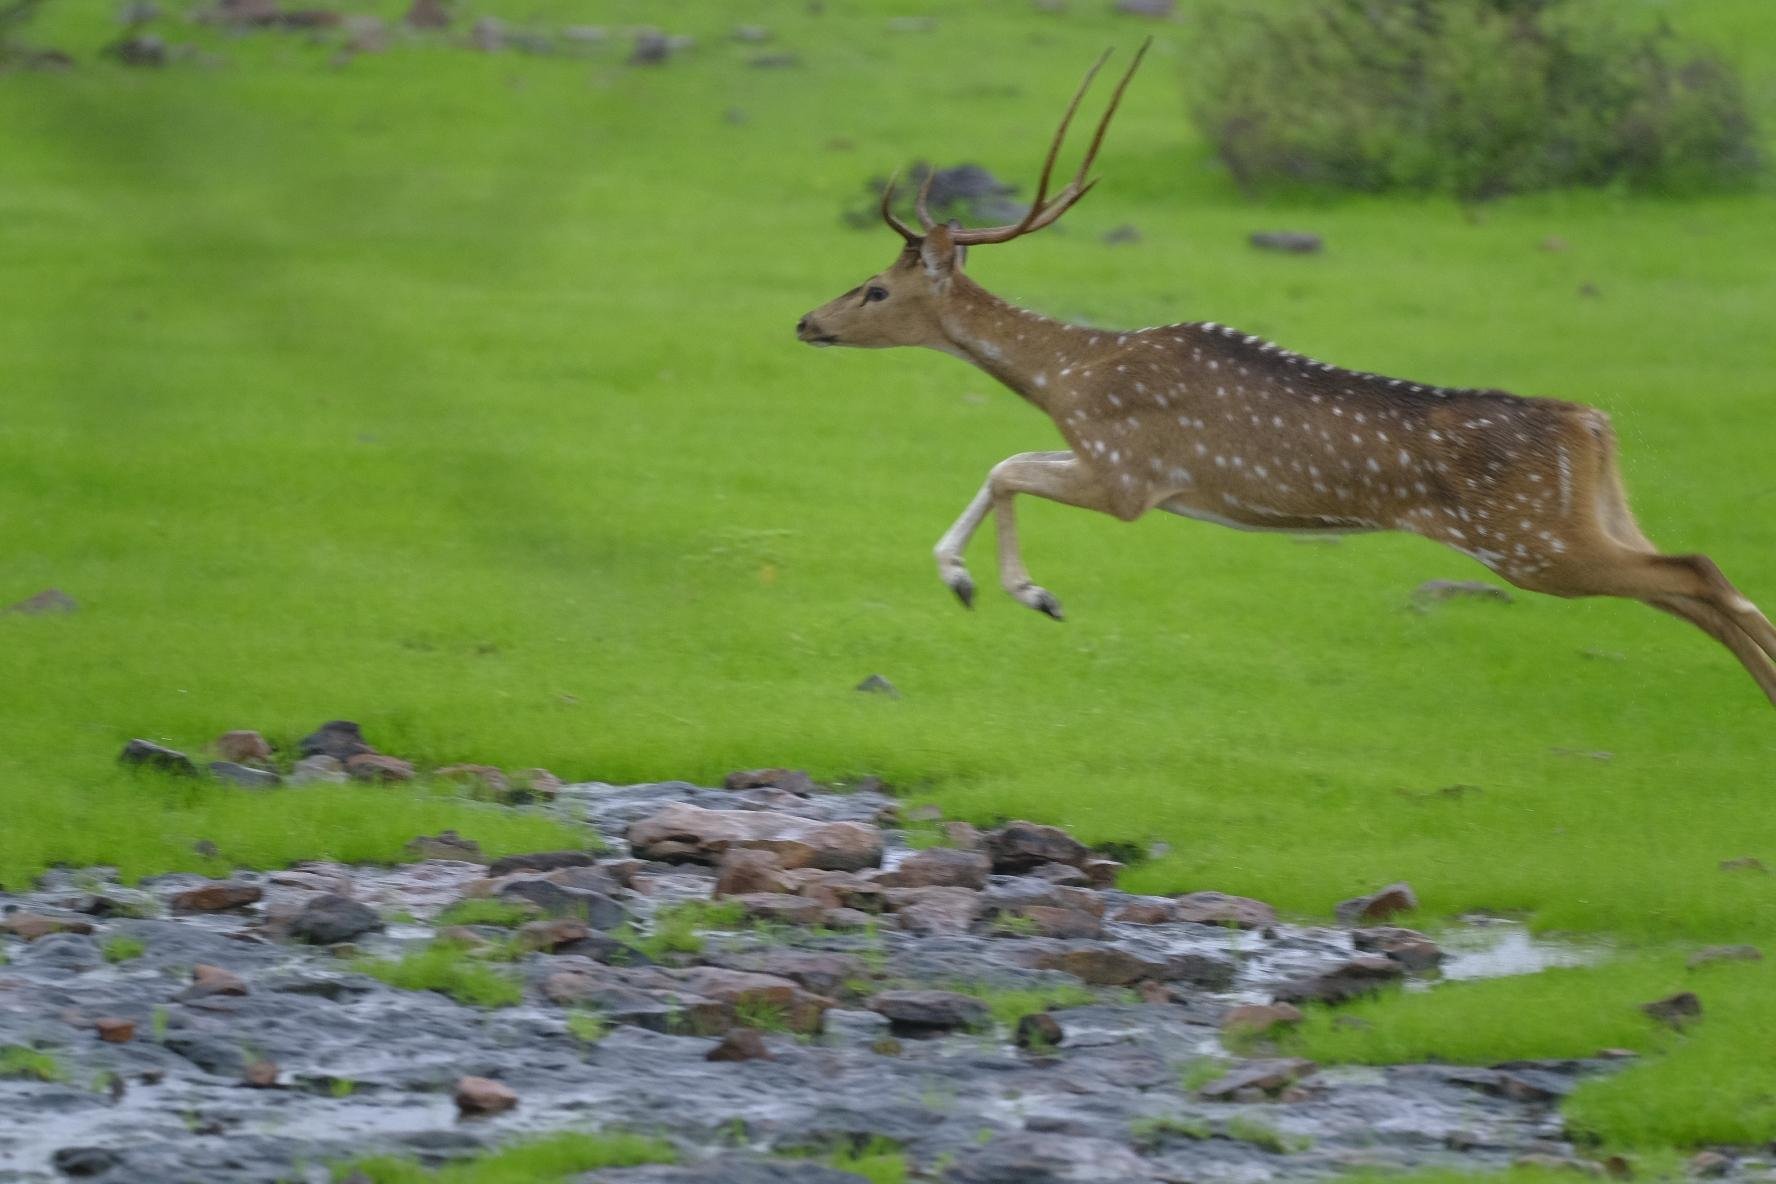Deer: (795, 40, 1775, 703)
